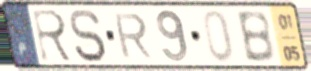0: (201, 8, 236, 65)
9: (155, 8, 191, 64)
B: (234, 9, 278, 65)
R: (30, 8, 76, 64), (111, 11, 155, 60)
S: (67, 7, 109, 64)
